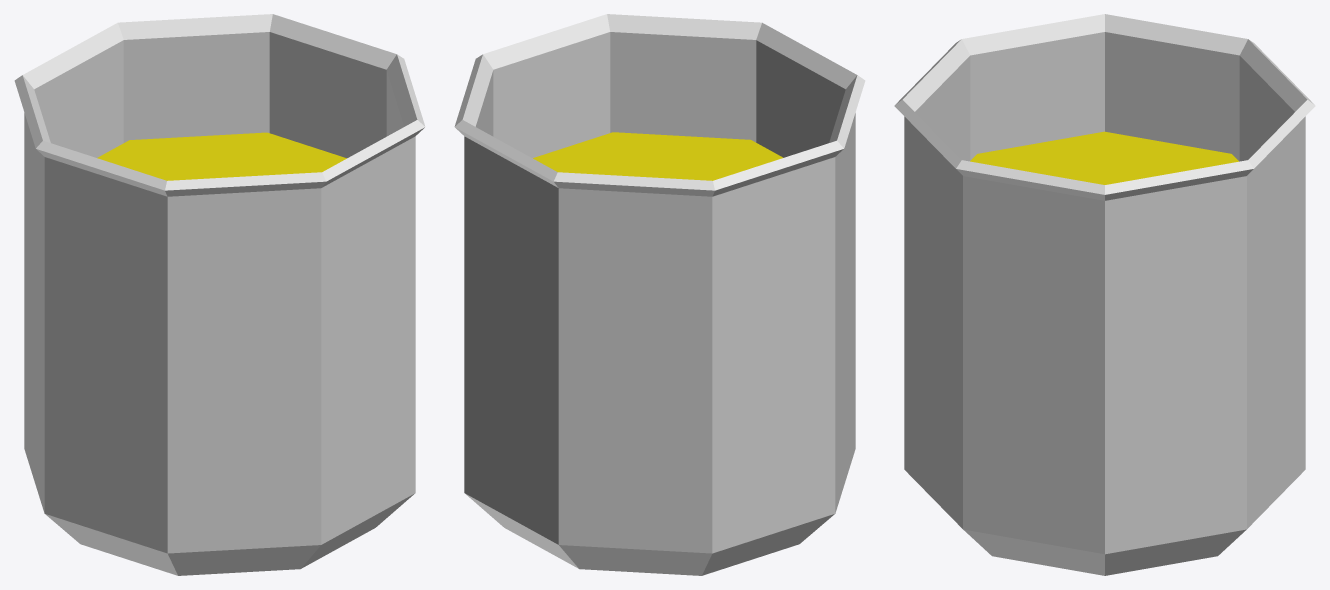
The model's file is Potion C.fbx.
The picture shows the model from 3 angles, left to right: view 1: azimuth 30°, elevation 25°; view 2: azimuth 150°, elevation 25°; view 3: azimuth 270°, elevation 25°; orthographic projection.
Visible parts, largest first — view 1: Cylinder.035, Cylinder.036; view 2: Cylinder.035, Cylinder.036; view 3: Cylinder.035, Cylinder.036.
Part boxes in pixels (left/top/right/bottom): Cylinder.035: left=14, top=14, right=425, bottom=575; Cylinder.036: left=97, top=132, right=346, bottom=180; Cylinder.035: left=454, top=14, right=865, bottom=575; Cylinder.036: left=533, top=132, right=783, bottom=180; Cylinder.035: left=894, top=14, right=1315, bottom=575; Cylinder.036: left=970, top=131, right=1238, bottom=184.
Bounding box in the file's own units: 33.32 × 35.66 × 33.32.
2 materials, 1 textured.
